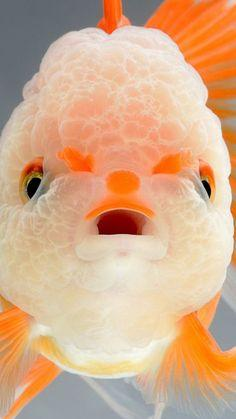goldfish: (0, 22, 236, 375)
